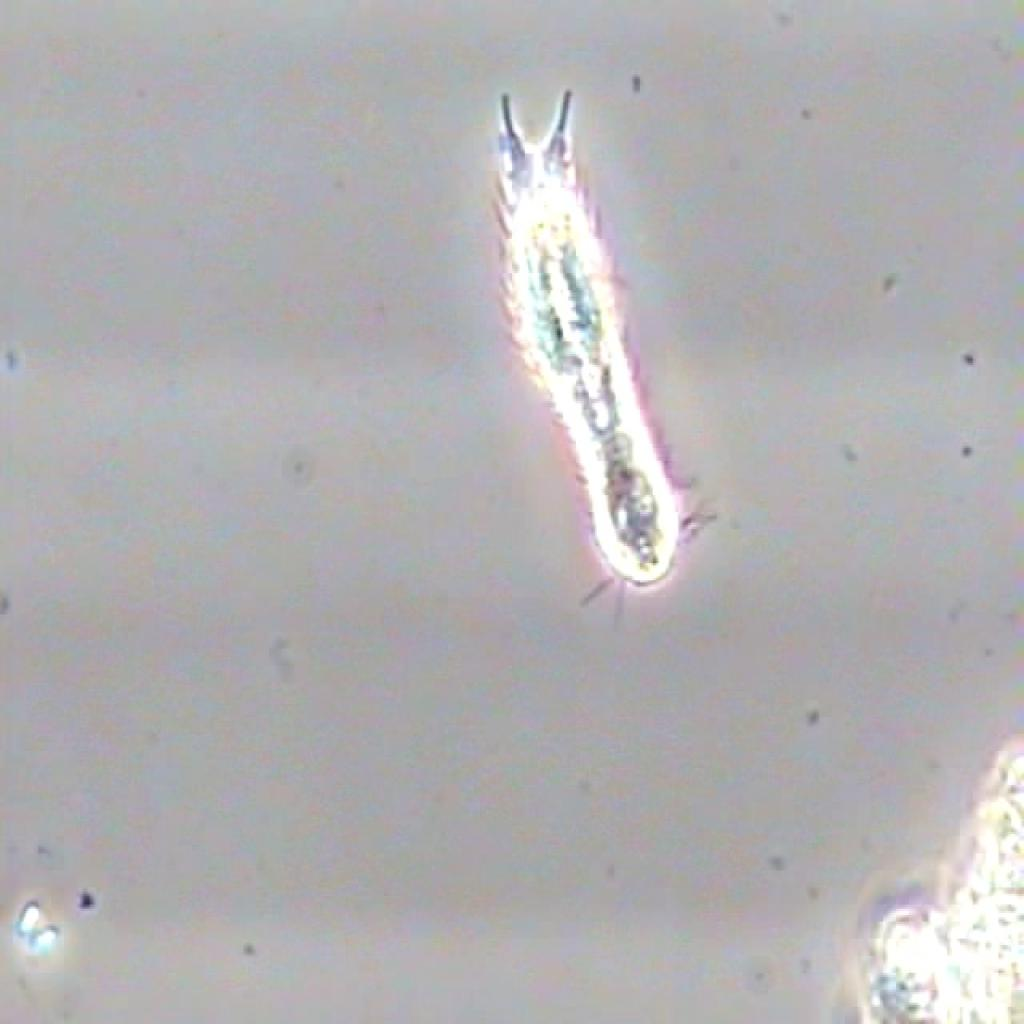Chaetonotus: (471, 86, 732, 632)
